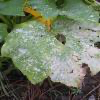Squash Powdery mildew leaf: (6, 14, 99, 90)
